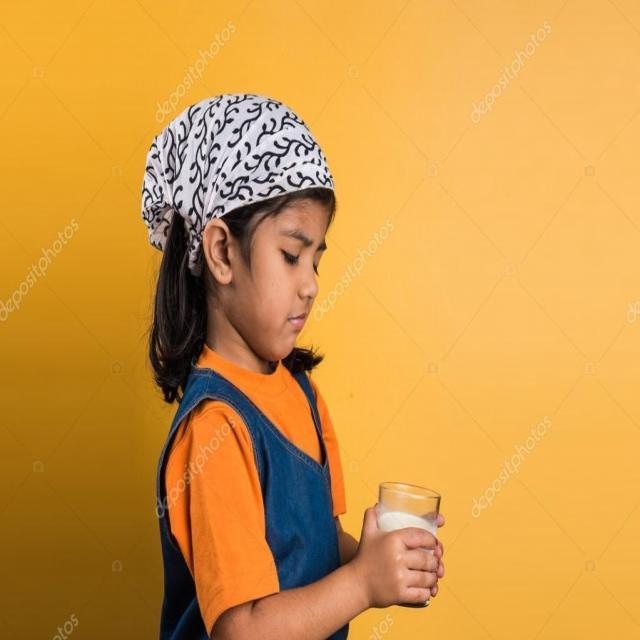child: (124, 86, 446, 640)
